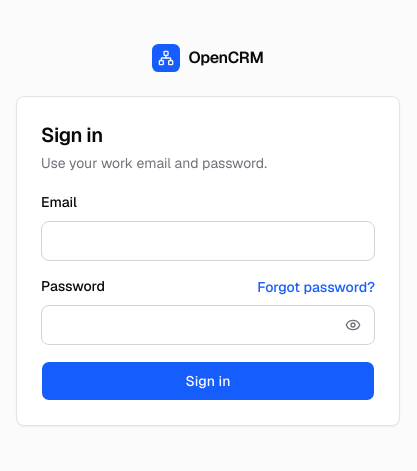
Test: LoginForm › explains INVALID_CREDENTIALS and stays on the page
Type "ada@example.com" into the field labelled "Email" at (208, 241), box [41, 221, 375, 261]
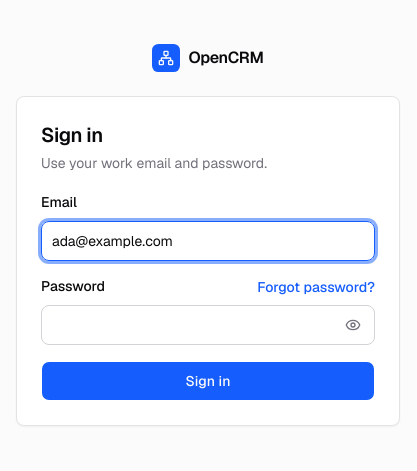
Type "a-long-password" into the password field labelled "Password" at (208, 325), box [41, 305, 375, 345]
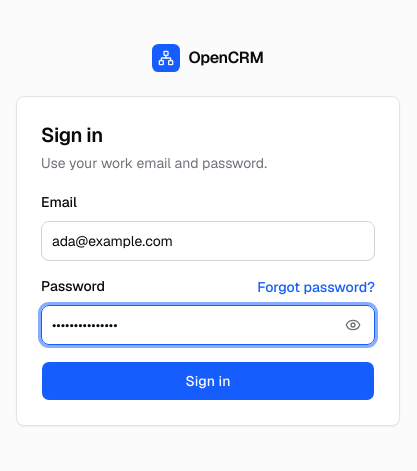
Click the button "Sign in" at (208, 381), box [41, 361, 375, 401]
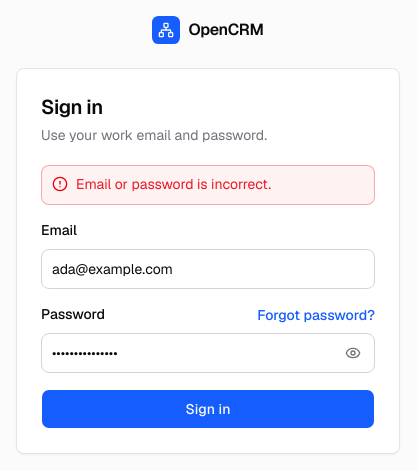
Expected: the message does not show "Server text", [41, 165, 375, 205]
Expected: the message reads "Email or password is incorrect.", [76, 175, 271, 193]
